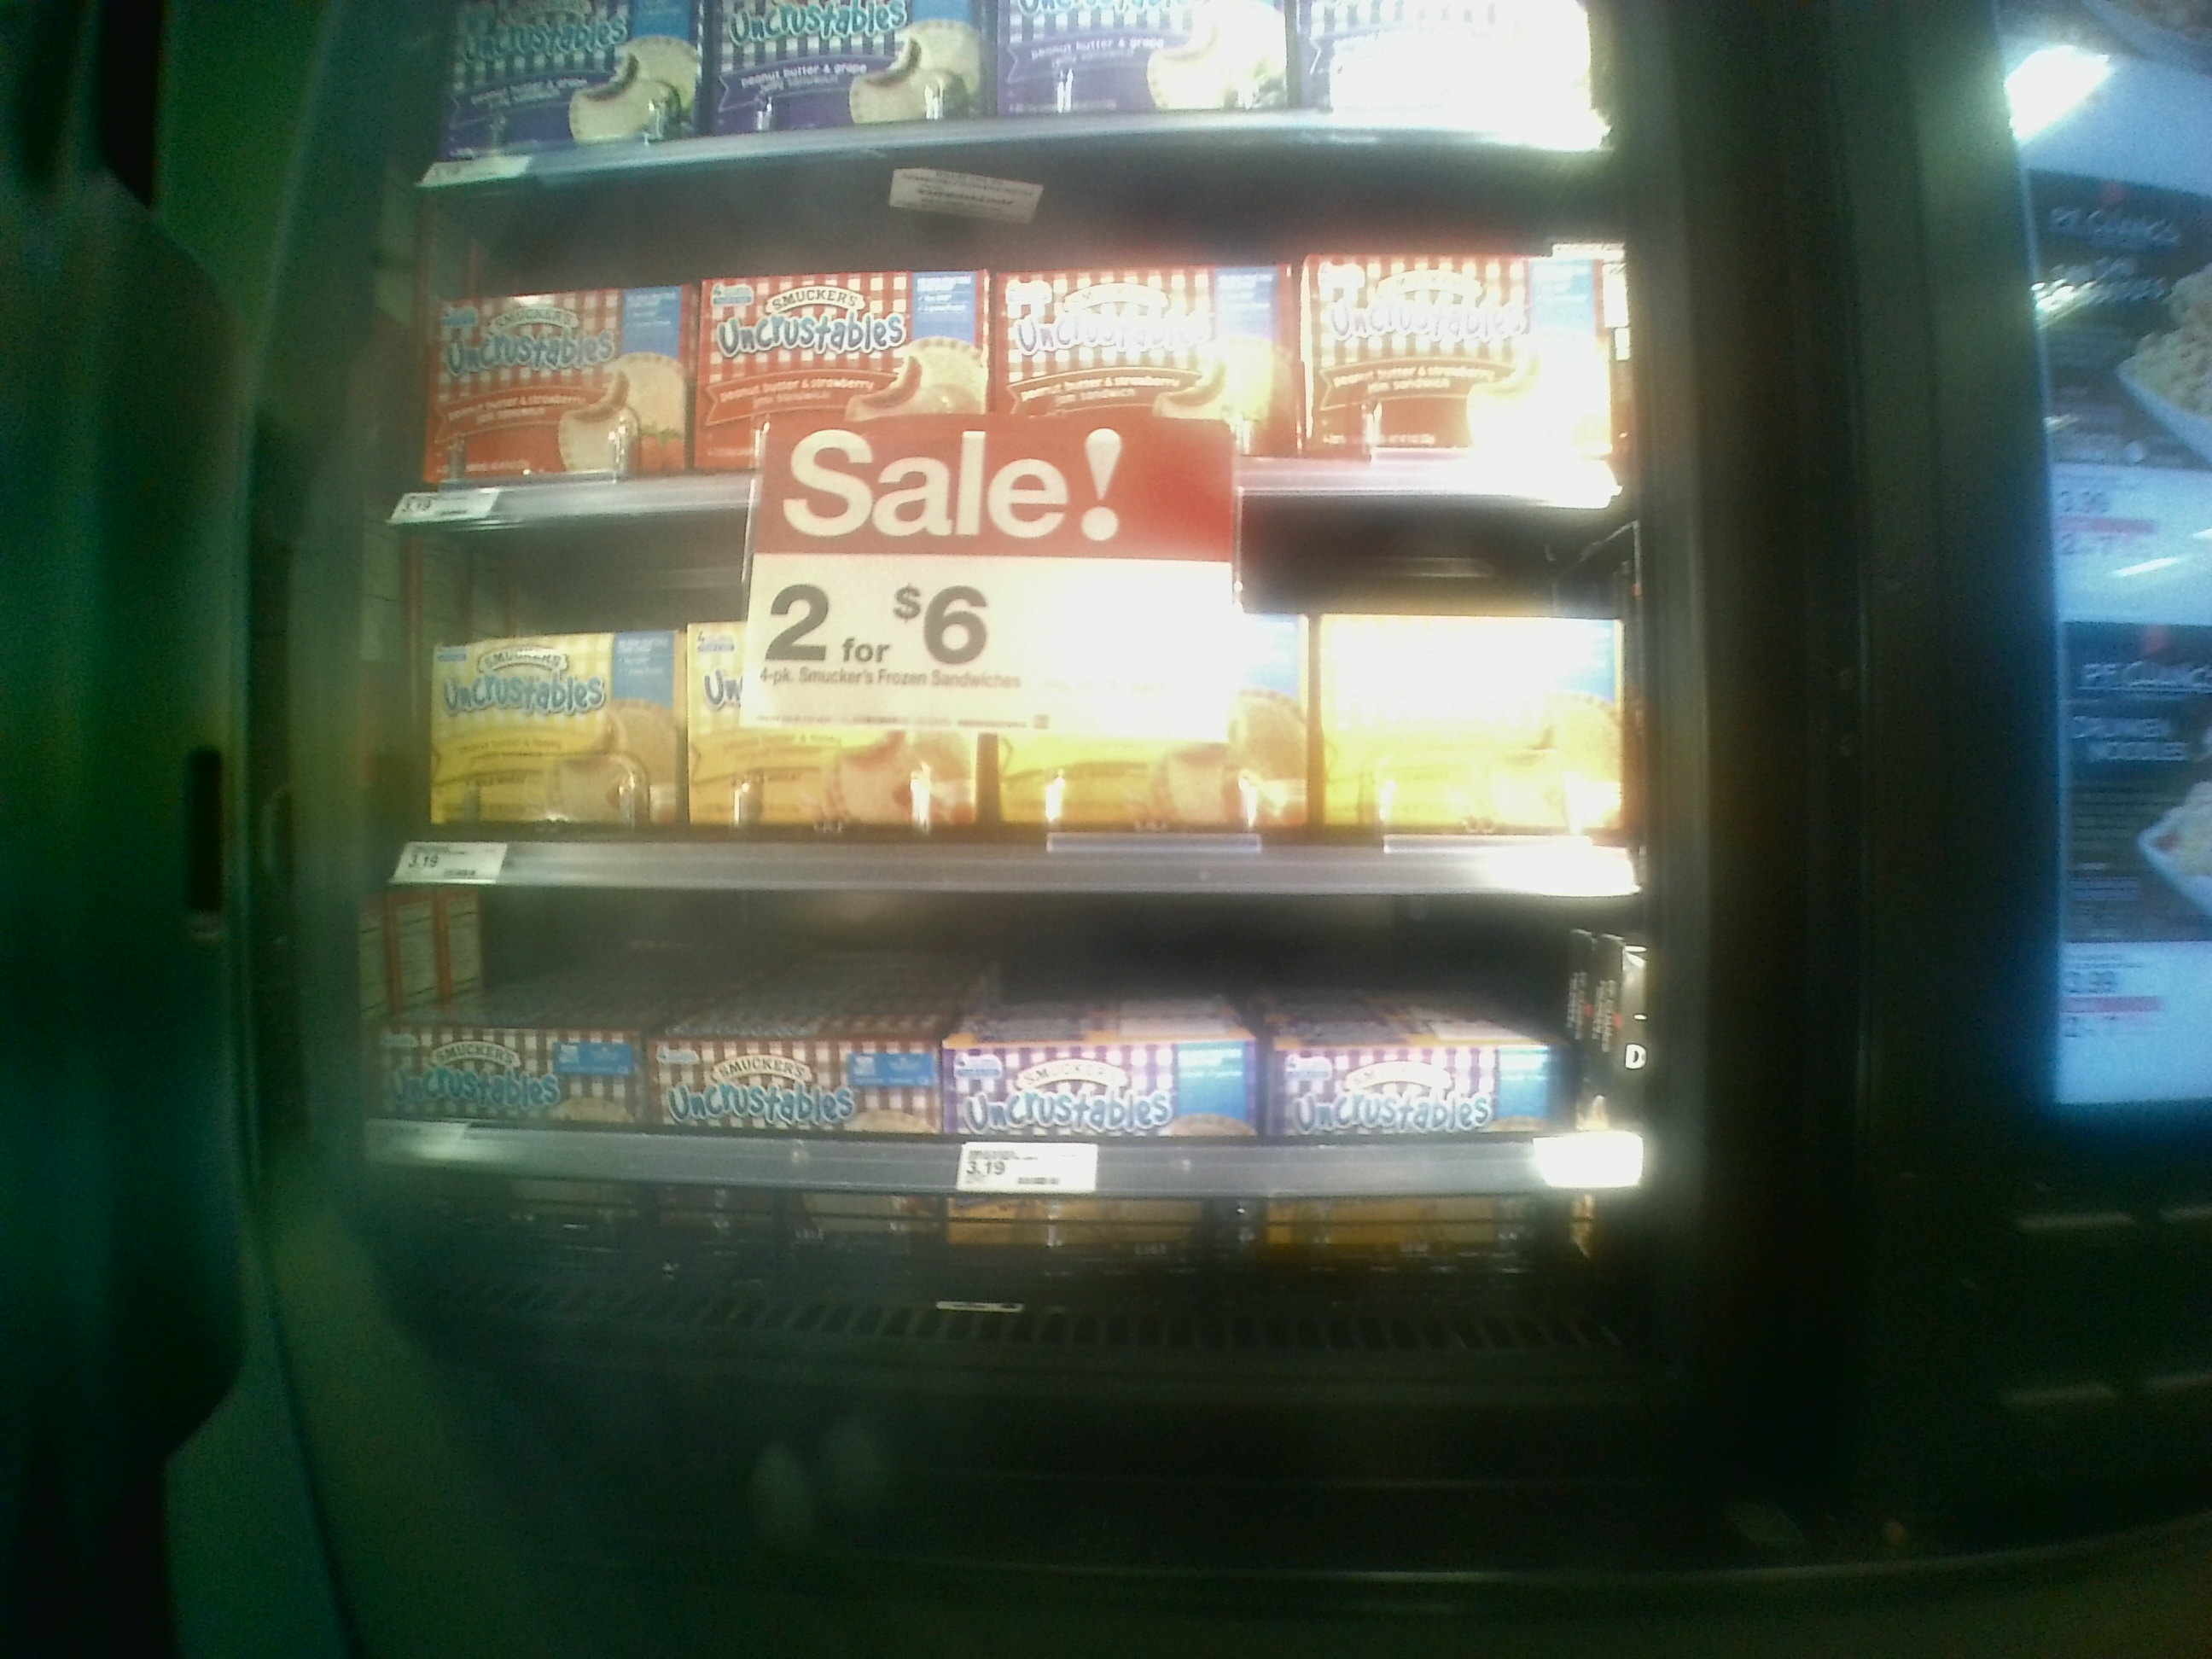shelf: (374, 885, 1674, 1354), (381, 535, 1655, 904), (383, 167, 1646, 514)
